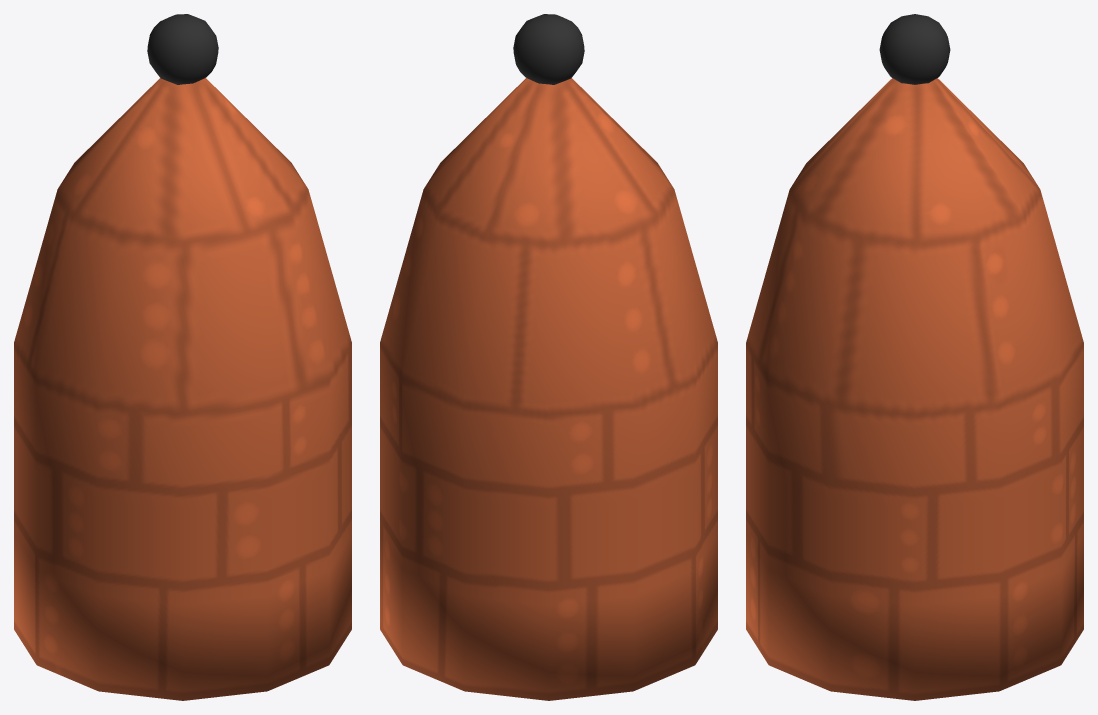
The model's file is rocket_final.fbx.
3 views of the same model, side by side, from view 1: azimuth 30°, elevation 25°; view 2: azimuth 150°, elevation 25°; view 3: azimuth 270°, elevation 25° (orthographic).
Parts seen in each view (by area): view 1: Rocket, Tip; view 2: Rocket, Tip; view 3: Rocket, Tip.
Boxes of the visible parts, x1,y1,x2,y2 form: Rocket: (14, 78, 351, 700); Tip: (147, 14, 218, 84); Rocket: (380, 78, 717, 700); Tip: (513, 14, 584, 84); Rocket: (746, 78, 1083, 700); Tip: (879, 14, 950, 84).
Size of the model in its own units: 1600 by 3198 by 1600.
